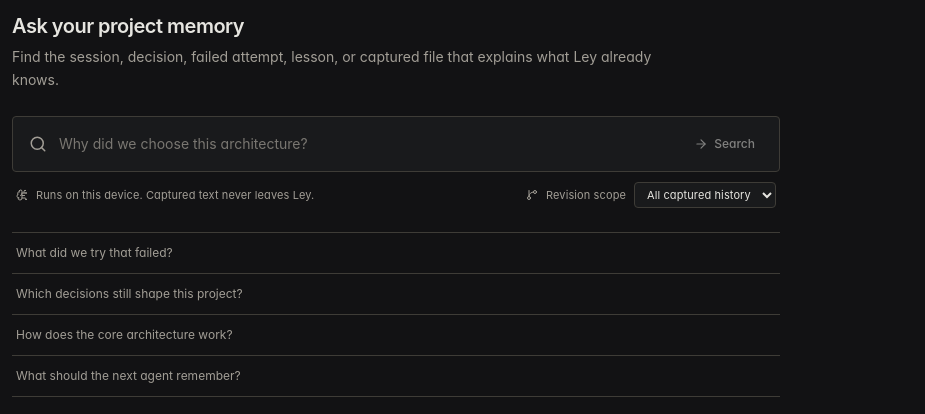
MemorySearch branch controls › filters by exact revision applicability and labels returned history
Type "renderer" into the field named "Search this project’s Agent Memory" at (367, 144), box [59, 120, 674, 166]
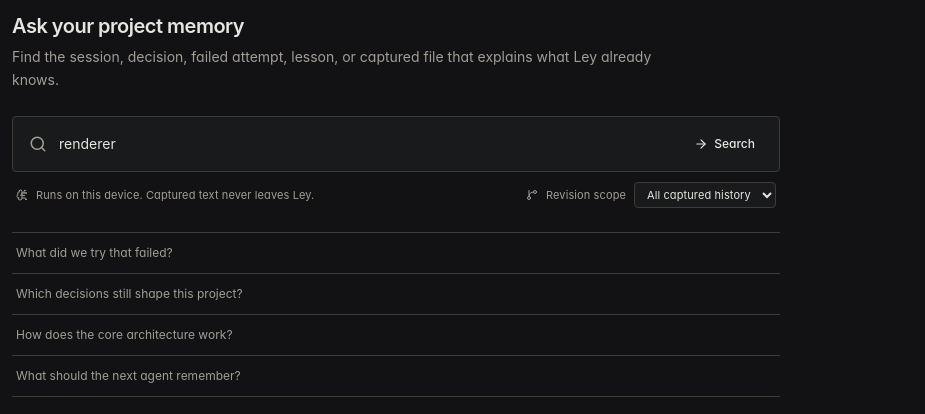
Select "Divergent" in the dropdown named "Filter project memory by revision compatibility" at (705, 194), box [634, 182, 776, 208]
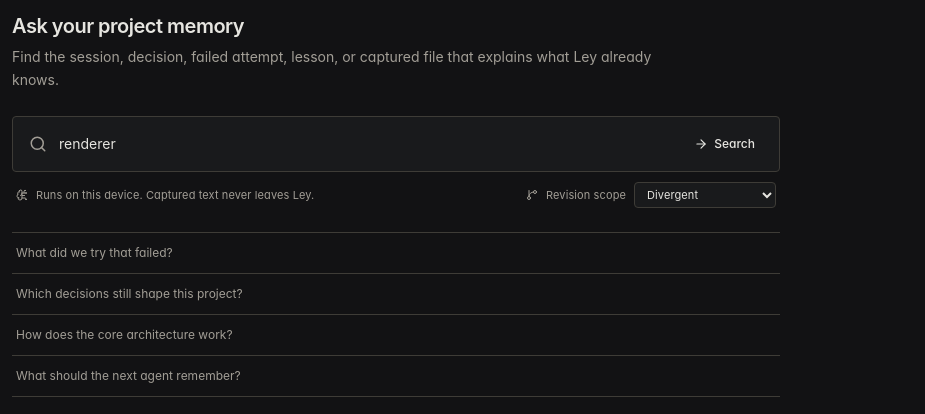
Click the button "Search" at (725, 144), box [686, 130, 763, 158]
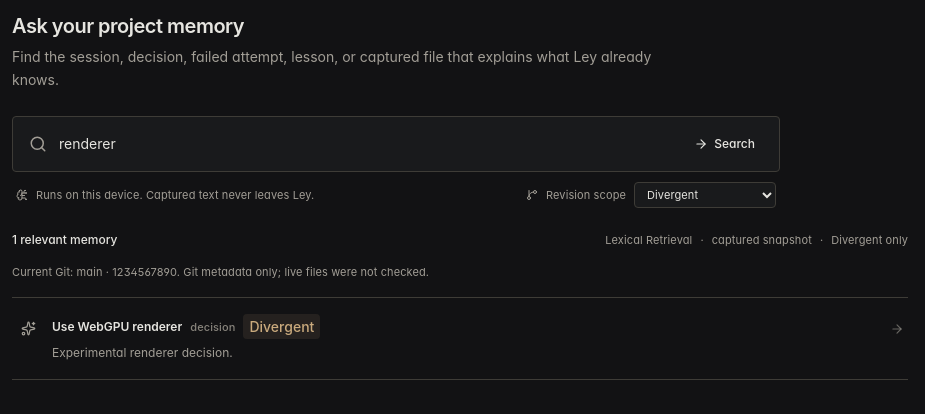
Now the text "Use WebGPU renderer" is shown, box [52, 319, 182, 335]
Now the text "Git metadata only; live files were not checked" is shown, box [12, 264, 429, 278]
